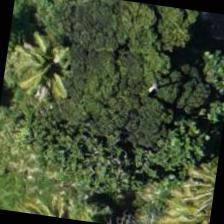Kelapa_Sawit: (0, 16, 102, 119)
